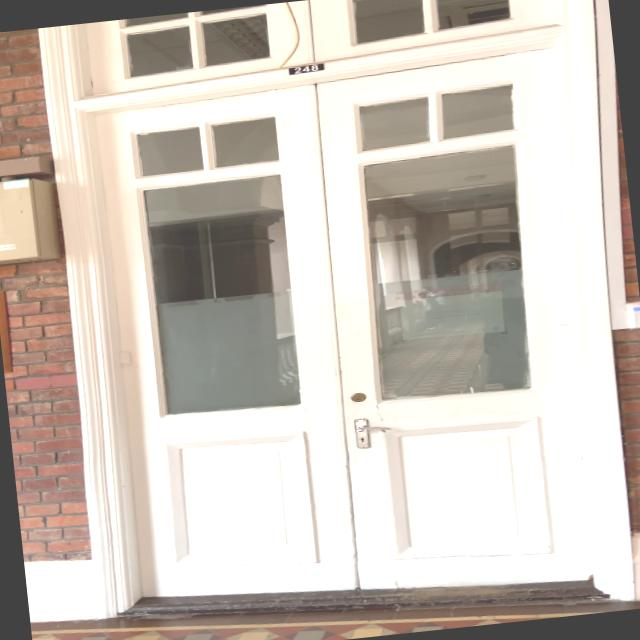room248: (283, 59, 323, 76)
